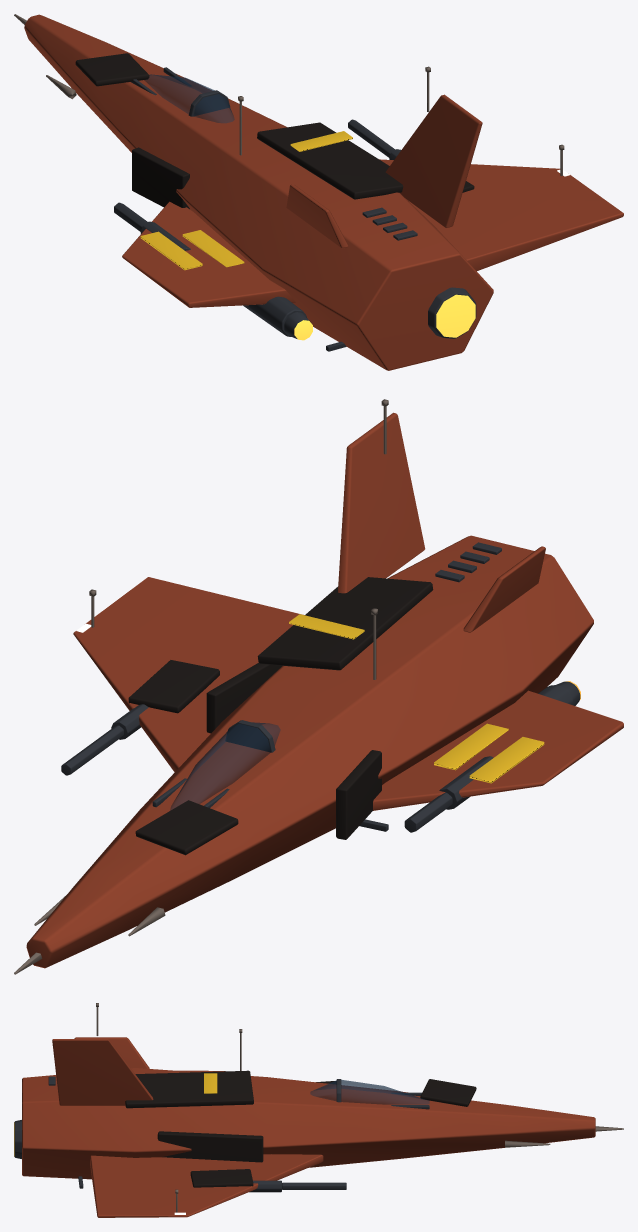
The model's file is pirate_fighter.glb.
3 renders of one model, top to bottom at view 1: azimuth 30°, elevation 25°; view 2: azimuth 150°, elevation 25°; view 3: azimuth 270°, elevation 25°, orthographic. The views are drawn at different scales.
Visible parts, largest first — view 1: hull, wing_R, scrap_plates, wing_L, tail_fin_R, hazard_stripes, canopy_glass, engine, engine_glow, tail_fin_L, canopy_frame, gun_pod_L (+2 smaller); view 2: hull, wing_R, scrap_plates, wing_L, tail_fin_R, canopy_glass, hazard_stripes, tail_fin_L, gun_pod_L, gun_pod_R, canopy_frame, frame; view 3: hull, wing_R, scrap_plates, tail_fin_R, canopy_glass, gun_pod_R, tail_fin_L, spikes, canopy_frame.
Part boxes in pixels (x1,y1,x2,y2): hull: (24, 14, 493, 370); wing_R: (379, 159, 623, 270); scrap_plates: (75, 53, 474, 209); wing_L: (122, 201, 295, 307); tail_fin_R: (385, 94, 482, 228); hazard_stripes: (140, 131, 352, 270); canopy_glass: (144, 74, 234, 123); engine: (243, 287, 476, 338); engine_glow: (294, 294, 475, 340); tail_fin_L: (286, 184, 348, 248); canopy_frame: (131, 67, 230, 116); gun_pod_L: (114, 202, 190, 250); hull: (26, 535, 593, 968); wing_R: (73, 577, 304, 772); scrap_plates: (128, 577, 433, 855); wing_L: (373, 690, 623, 810); tail_fin_R: (338, 412, 425, 593); canopy_glass: (170, 722, 280, 810); hazard_stripes: (289, 614, 544, 783); tail_fin_L: (463, 546, 545, 632); gun_pod_L: (404, 756, 493, 832); gun_pod_R: (61, 704, 148, 775); canopy_frame: (152, 720, 275, 807); frame: (359, 542, 501, 831); hull: (22, 1068, 595, 1179); wing_R: (90, 1154, 323, 1217); scrap_plates: (125, 1070, 476, 1187); tail_fin_R: (52, 1039, 153, 1105); canopy_glass: (310, 1079, 429, 1104); gun_pod_R: (249, 1180, 346, 1192); tail_fin_L: (74, 1037, 149, 1068); spikes: (505, 1126, 623, 1147); canopy_frame: (336, 1079, 429, 1109).
Size of what is drawn, in the model's own units: 9.3 by 5.27 by 16.16.
